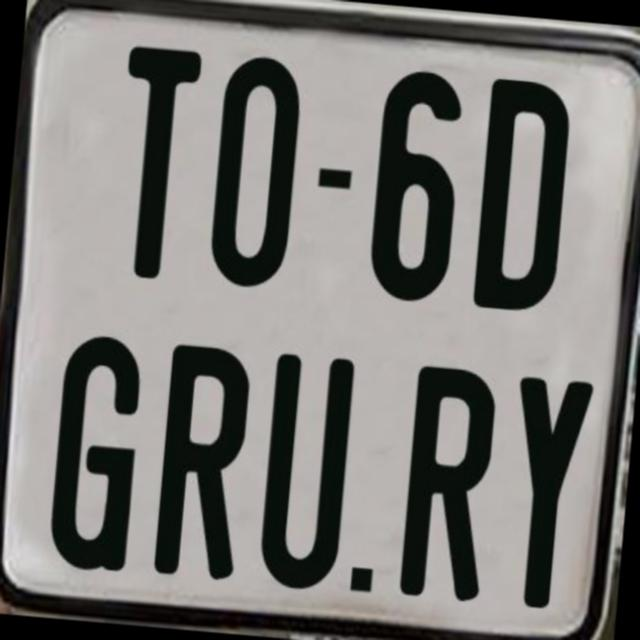0: (204, 53, 304, 290)
6: (366, 66, 473, 310)
D: (468, 78, 572, 316)
G: (45, 330, 147, 578)
R: (152, 342, 258, 589), (394, 364, 494, 608)
T: (109, 44, 204, 288)
U: (256, 350, 362, 598)
Y: (498, 372, 598, 608)
